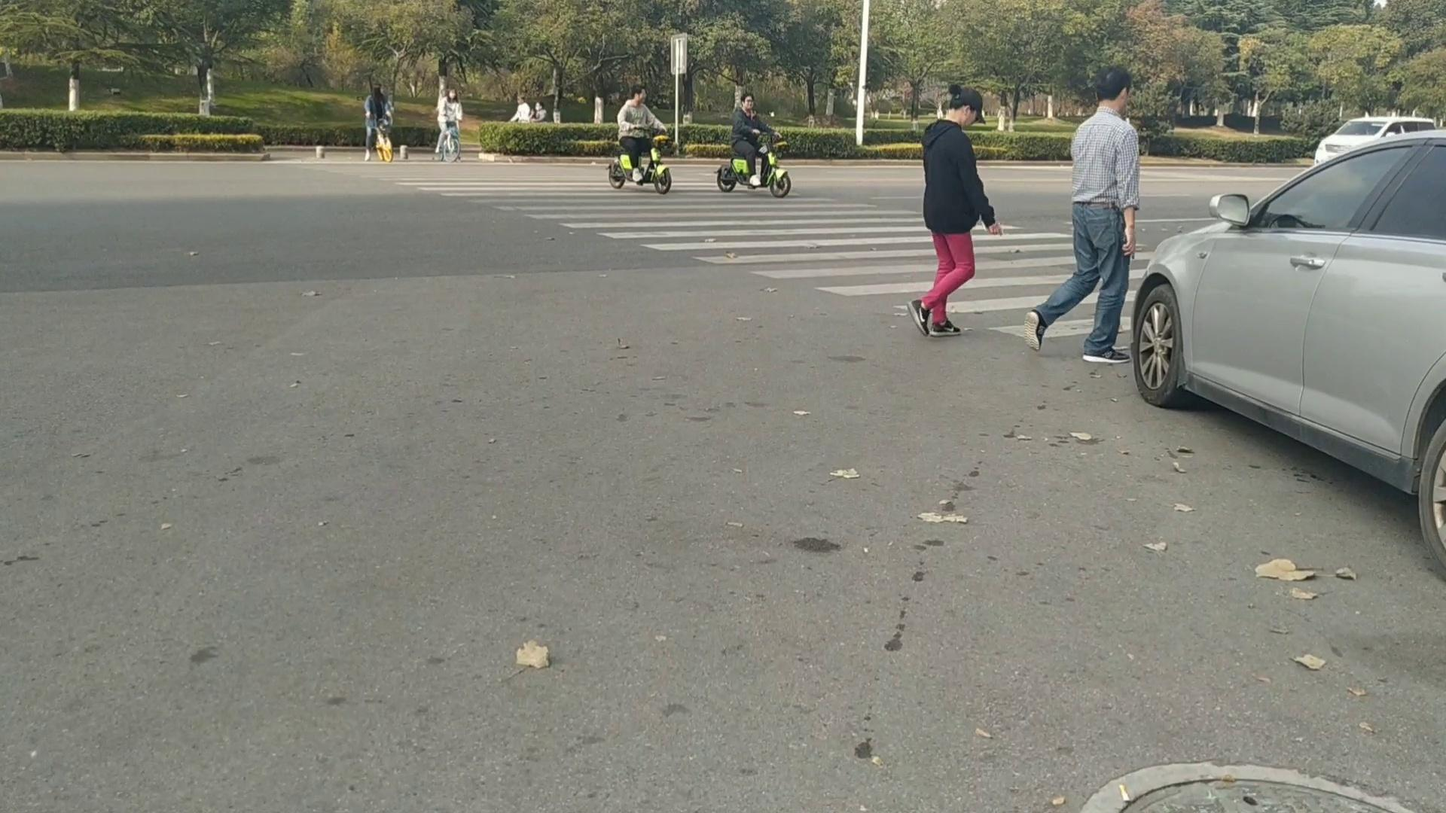car: (1127, 129, 1444, 565), (1312, 116, 1441, 166)
